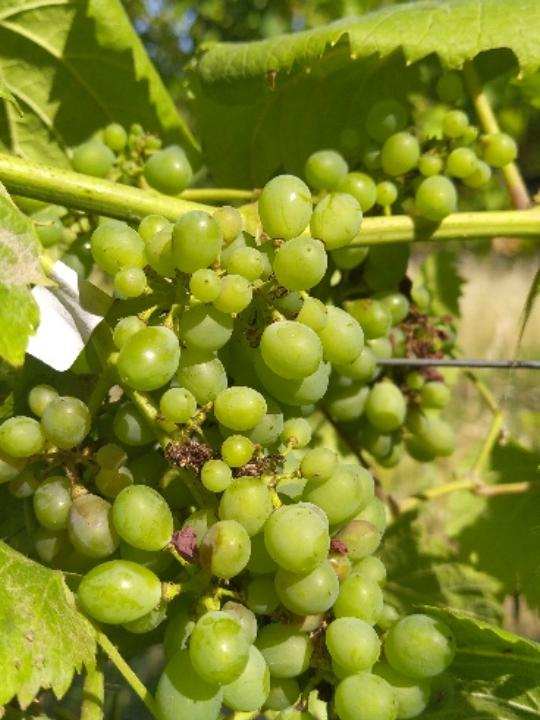grape: (0, 168, 461, 720)
